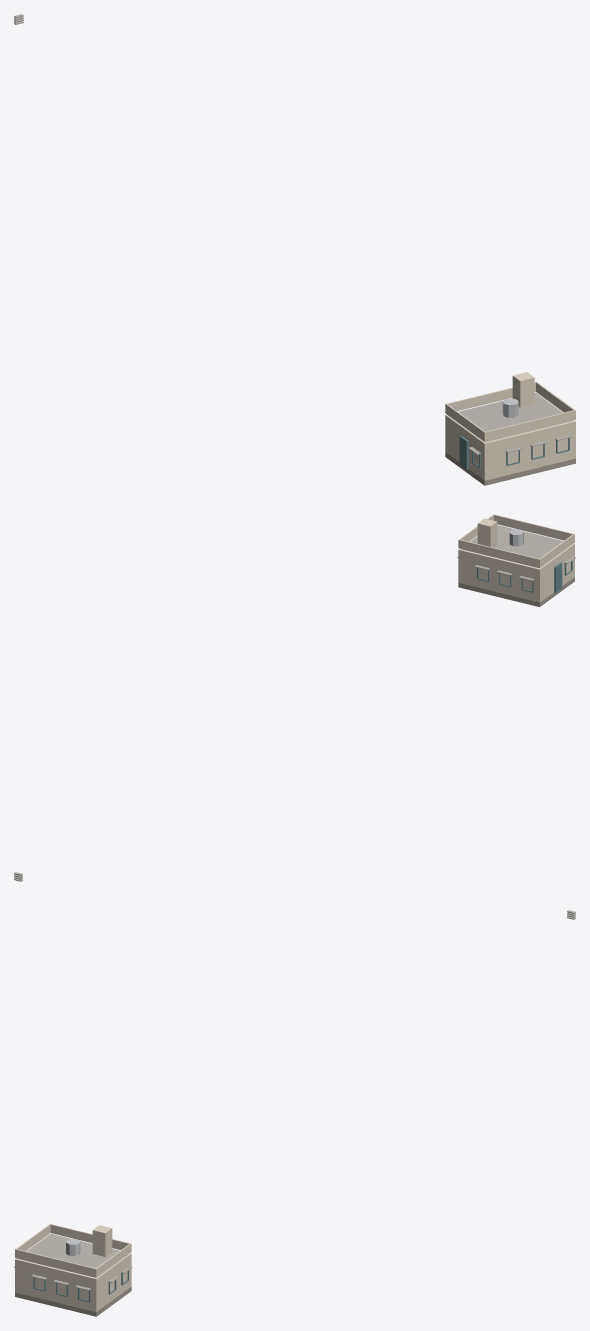
The model's file is house1.glb.
3 renders of one model, top to bottom at view 1: azimuth 30°, elevation 25°; view 2: azimuth 150°, elevation 25°; view 3: azimuth 330°, elevation 25°, orthographic. The views are drawn at different scales.
Parts seen in each view (by area): view 1: lib_house1; view 2: lib_house1; view 3: lib_house1.
Boxes of the visible parts, bbox=[...] form: lib_house1: bbox=[14, 14, 575, 485]; lib_house1: bbox=[14, 514, 575, 881]; lib_house1: bbox=[14, 910, 575, 1316].
Size of the model in its own units: 8.64 by 5.86 by 81.99.
